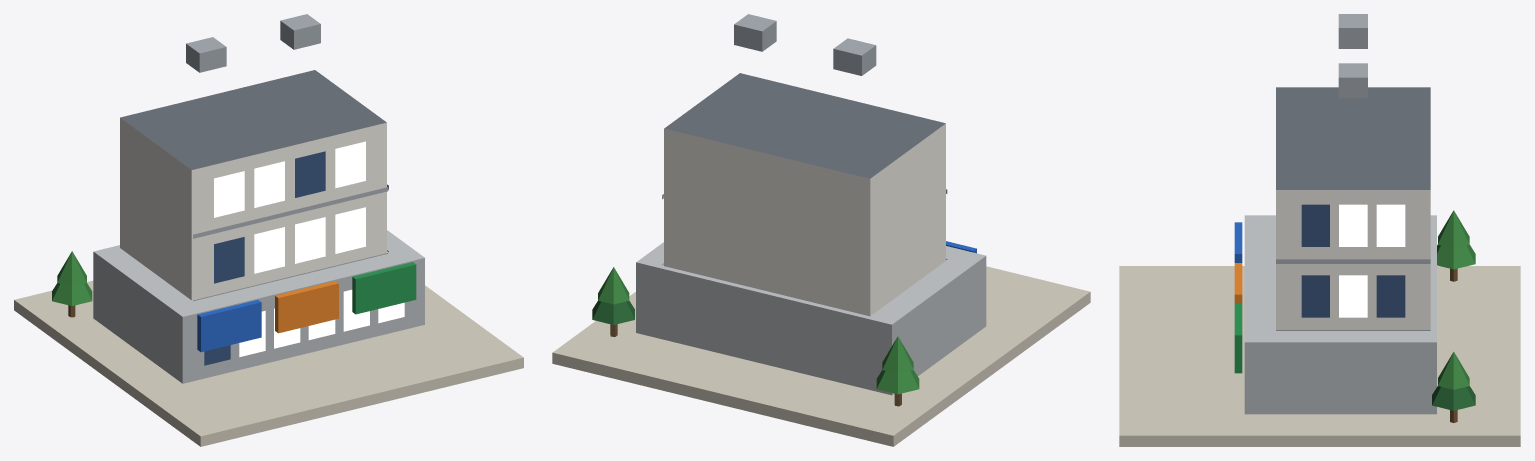
The picture shows the model from 3 angles, left to right: view 1: azimuth 30°, elevation 25°; view 2: azimuth 150°, elevation 25°; view 3: azimuth 270°, elevation 25°; orthographic projection. The views are drawn at different scales.
Visible parts, largest first — view 1: b09; view 2: b09; view 3: b09.
Part boxes in pixels (left/top/right/bottom): b09: left=14, top=14, right=523, bottom=446; b09: left=552, top=14, right=1090, bottom=446; b09: left=1119, top=14, right=1520, bottom=446.
Bounding box in the file's own units: 0.96 × 0.835 × 0.96.
